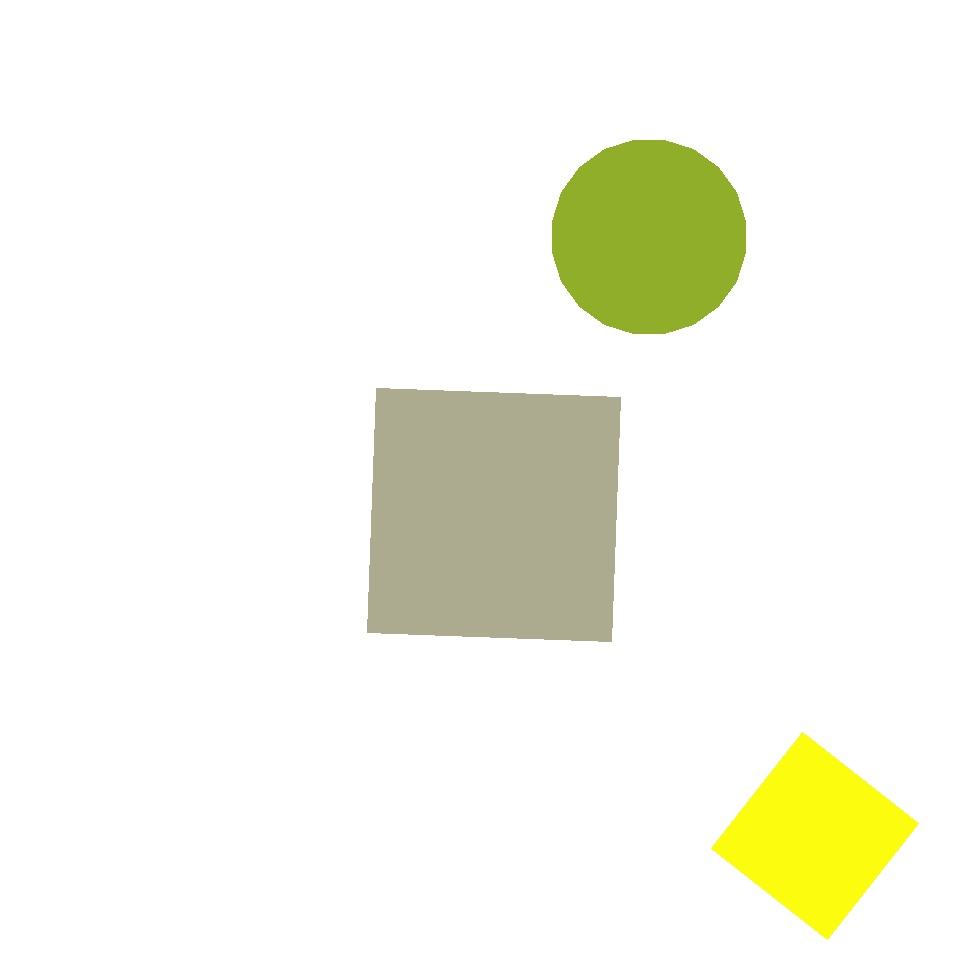circle: (213, 25, 388, 193)
square: (367, 389, 620, 642), (460, 526, 670, 734), (712, 732, 918, 940), (624, 384, 810, 570), (668, 9, 762, 104)
triangle: (552, 140, 746, 334)
